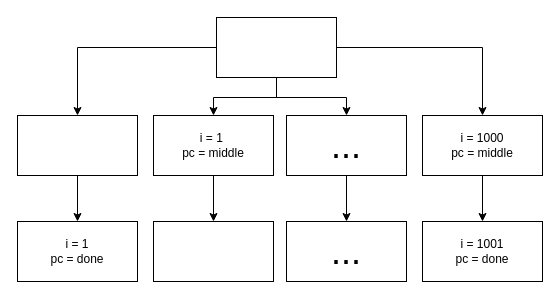
Image size: 560x299. Some labels were removed from this diagram. Each missing label, with the box of its shape:
i = 0 pc = middle: (16, 114, 138, 176)
i = 0 pc = start: (216, 16, 336, 78)
i = 2 pc = done: (152, 220, 274, 282)
